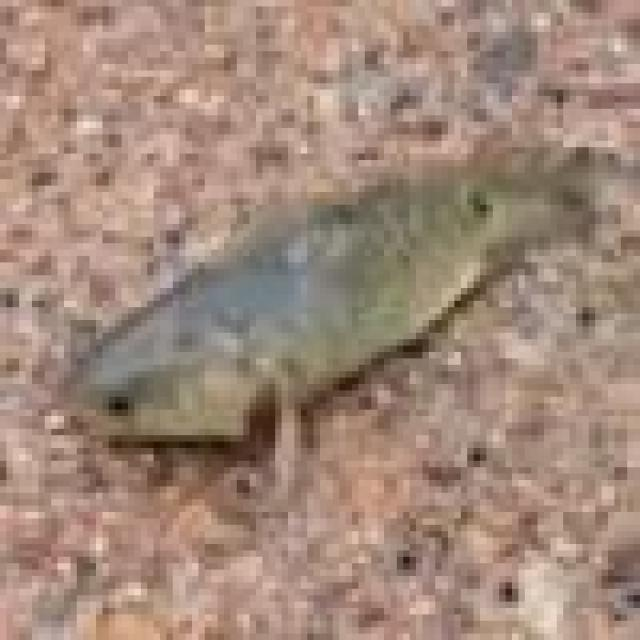Climbing-Perch: (74, 101, 624, 514)
